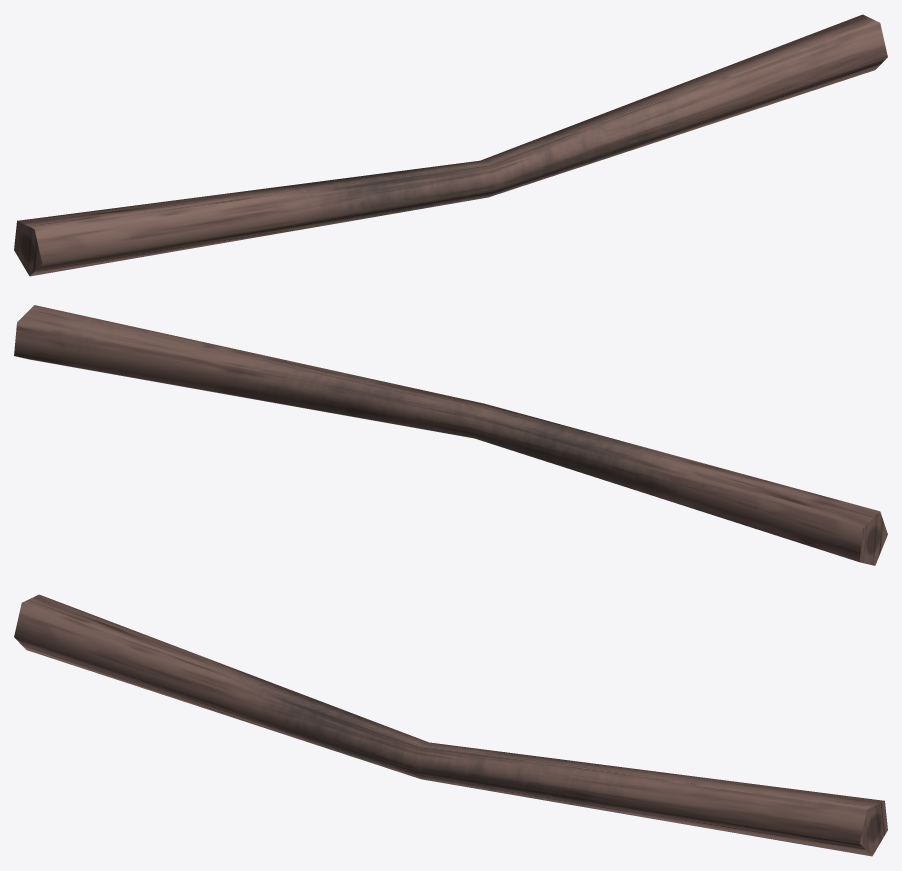
The model's file is BranchB.FBX.
3 views of the same model, one above another, from view 1: azimuth 30°, elevation 25°; view 2: azimuth 150°, elevation 25°; view 3: azimuth 330°, elevation 25° (orthographic).
Visible parts, largest first — view 1: BranchB; view 2: BranchB; view 3: BranchB.
Part boxes in pixels (x1=…): BranchB: x1=14, y1=14, x2=887, y2=276; BranchB: x1=14, y1=305, x2=887, y2=565; BranchB: x1=14, y1=594, x2=887, y2=856.
Bounding box in the file's own units: 116 × 6.89 × 13.4.
